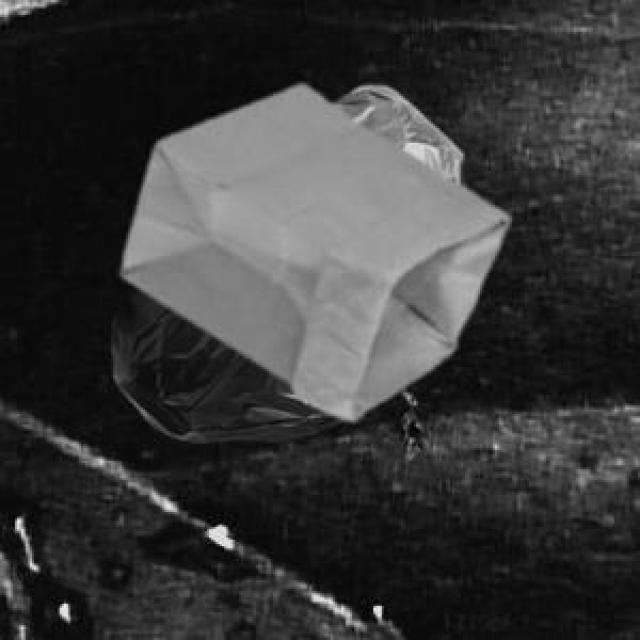miscellaneous trash: (107, 81, 461, 457)
paper: (117, 81, 506, 416)
